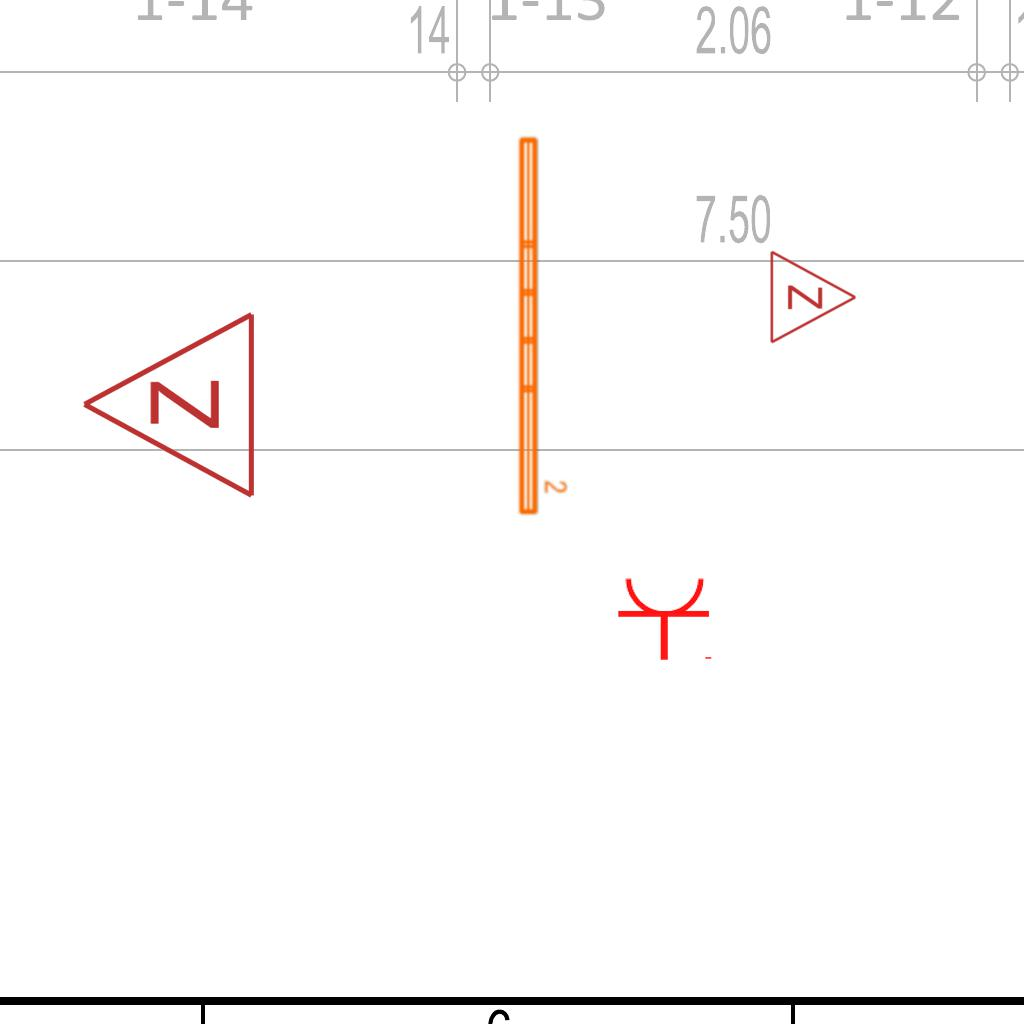Ambulanz_Pendelleuchte_LED: (513, 132, 569, 519)
Schukosteckdose_einfach: (616, 575, 716, 662)
Zimmersignalleuchte: (69, 309, 269, 505), (763, 247, 863, 345)
